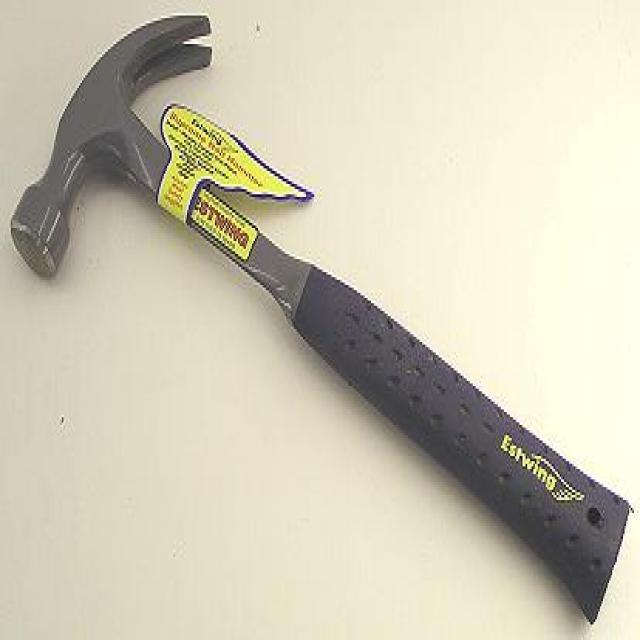hammer: (3, 0, 639, 630)
